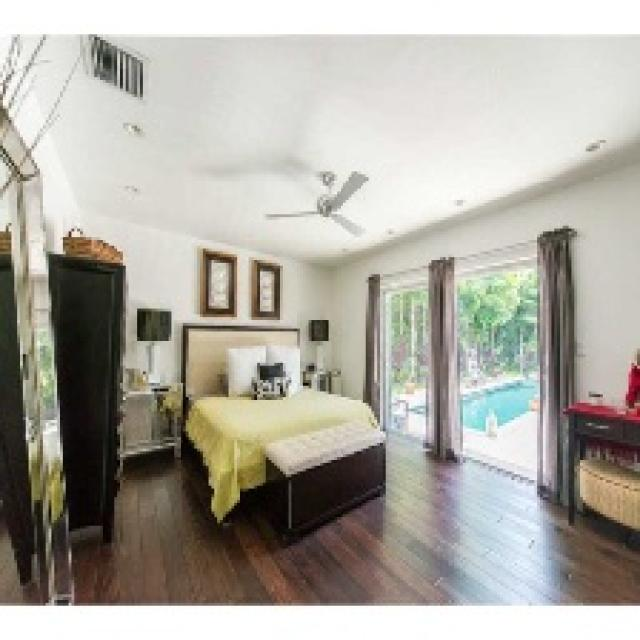Bed: (180, 320, 386, 546)
